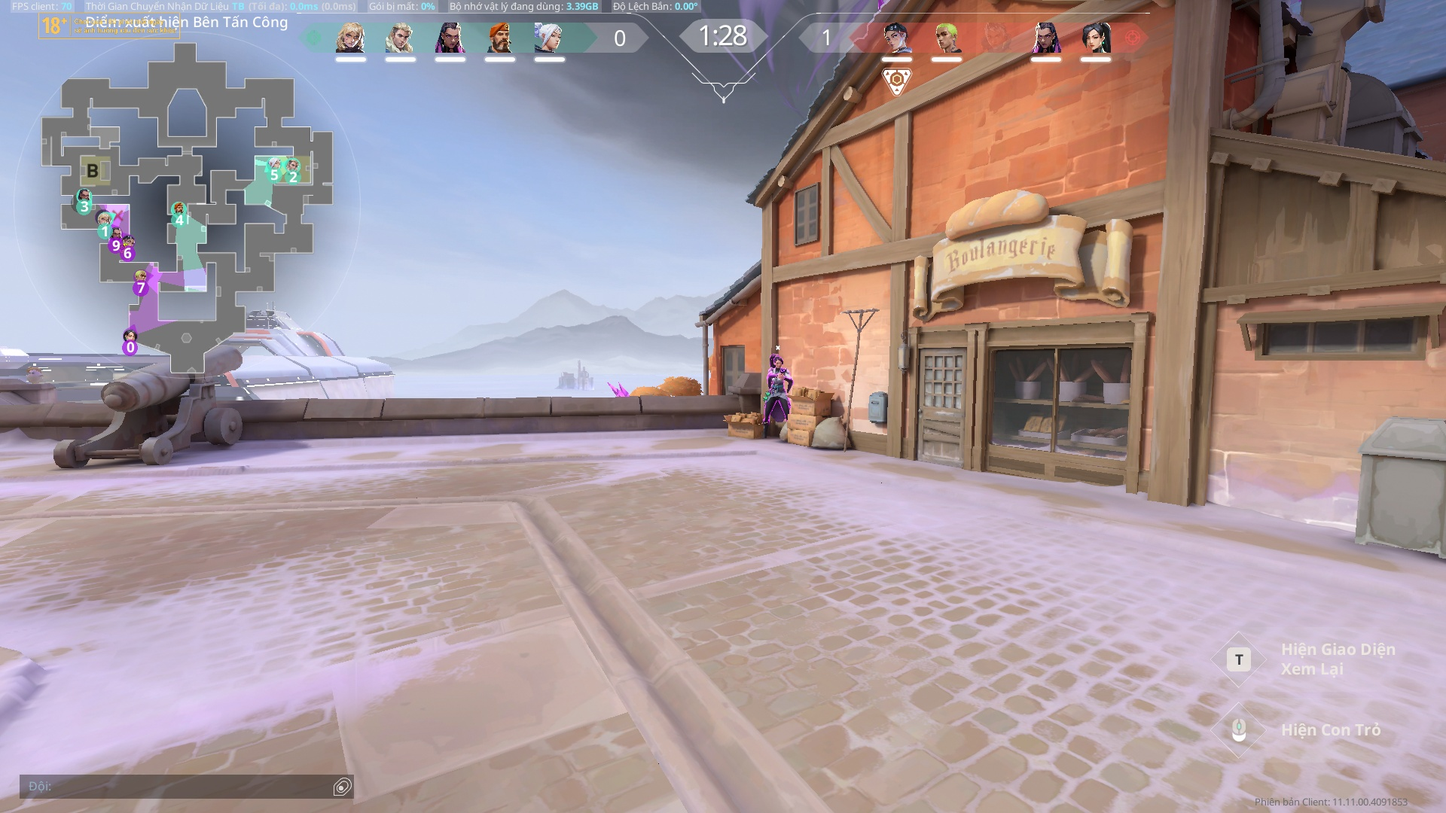body: (767, 366, 789, 386)
head: (773, 355, 786, 369)
